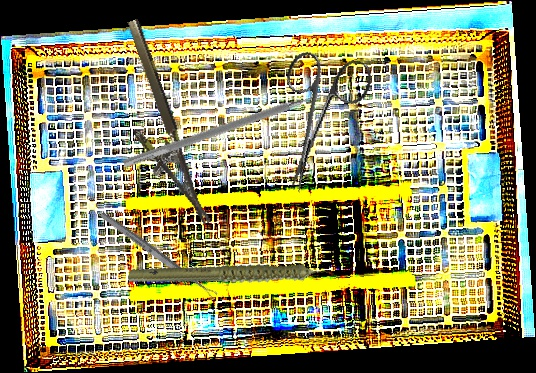Handpiece: (127, 225, 341, 329)
Iris Scissors: (256, 43, 376, 204)
Needle Holder: (99, 17, 211, 237)
Spatula Surgical: (122, 85, 333, 178)
Surgical Spoon: (98, 210, 219, 301)
